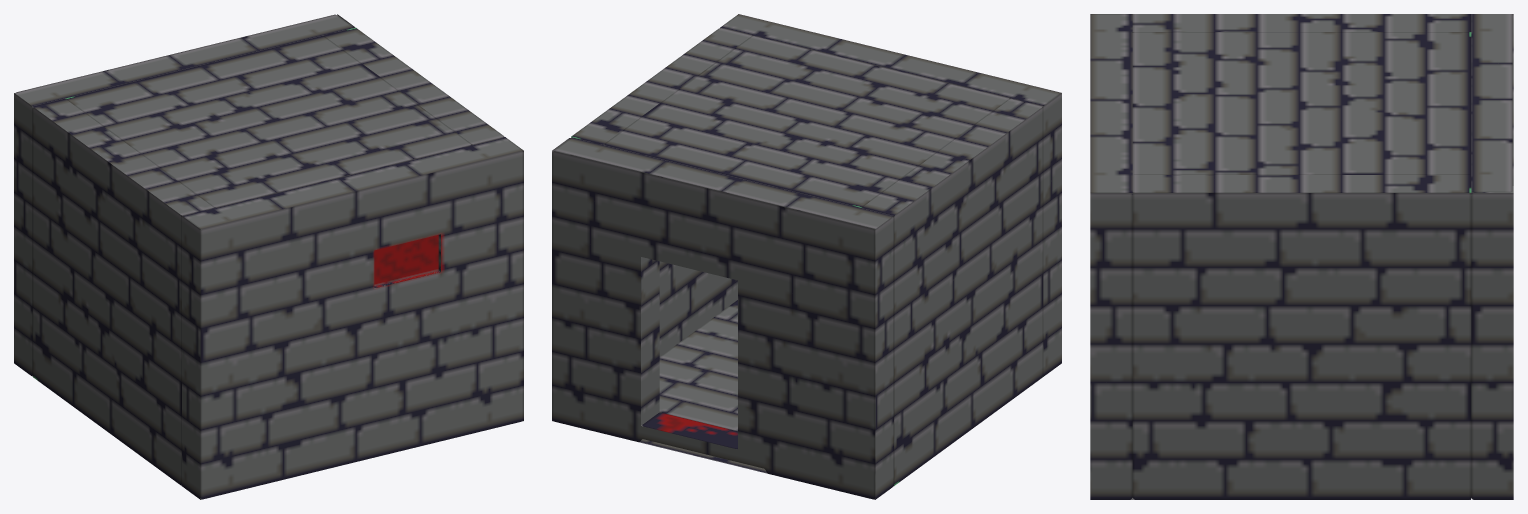
Rendered from roomwalls23.fbx.
The picture shows the model from 3 angles, left to right: view 1: azimuth 30°, elevation 25°; view 2: azimuth 150°, elevation 25°; view 3: azimuth 270°, elevation 25°; orthographic projection. The views are drawn at different scales.
Visible parts, largest first — view 1: cuboid_3, cuboid_2, cuboid_4, cuboid_5, cuboid_1; view 2: cuboid_5, cuboid_2, cuboid_4, cuboid_3, cuboid_1, cuboid; view 3: cuboid_1, cuboid_4, cuboid_3, cuboid_5, cuboid_2.
Part boxes in pixels (x1=…): cuboid_3: x1=182, y1=137, x2=523, y2=499; cuboid_2: x1=32, y1=98, x2=213, y2=485; cuboid_4: x1=65, y1=36, x2=472, y2=207; cuboid_5: x1=14, y1=14, x2=355, y2=376; cuboid_1: x1=324, y1=27, x2=504, y2=144; cuboid_5: x1=552, y1=137, x2=893, y2=499; cuboid_2: x1=862, y1=98, x2=1043, y2=486; cuboid_4: x1=603, y1=36, x2=1009, y2=207; cuboid_3: x1=720, y1=14, x2=1061, y2=376; cuboid_1: x1=571, y1=27, x2=751, y2=356; cuboid: x1=659, y1=300, x2=737, y2=431; cuboid_1: x1=1132, y1=175, x2=1471, y2=499; cuboid_4: x1=1132, y1=32, x2=1471, y2=174; cuboid_3: x1=1090, y1=14, x2=1132, y2=499; cuboid_5: x1=1471, y1=14, x2=1513, y2=499; cuboid_2: x1=1132, y1=14, x2=1471, y2=31.
Size of the model in its own units: 500 by 400 by 500.
1 material, 1 textured.
